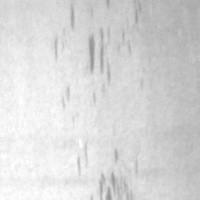inclusion: (87, 145, 139, 200), (78, 22, 121, 88), (55, 79, 81, 114)
